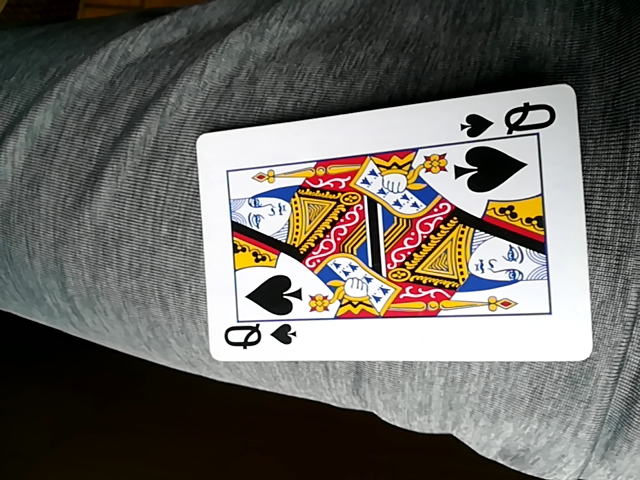ht q: (196, 87, 592, 362)
